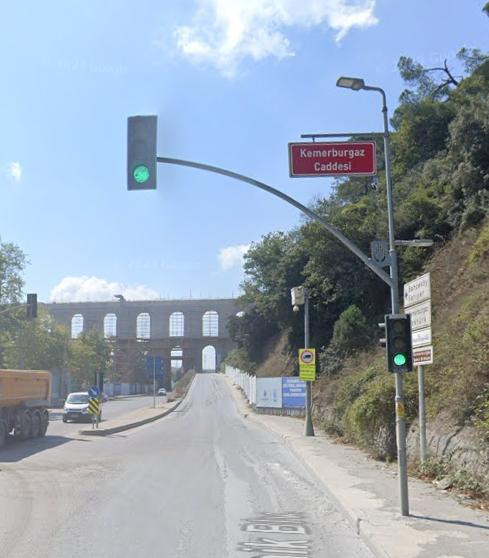greenlight: (129, 114, 158, 190), (385, 315, 414, 367)
